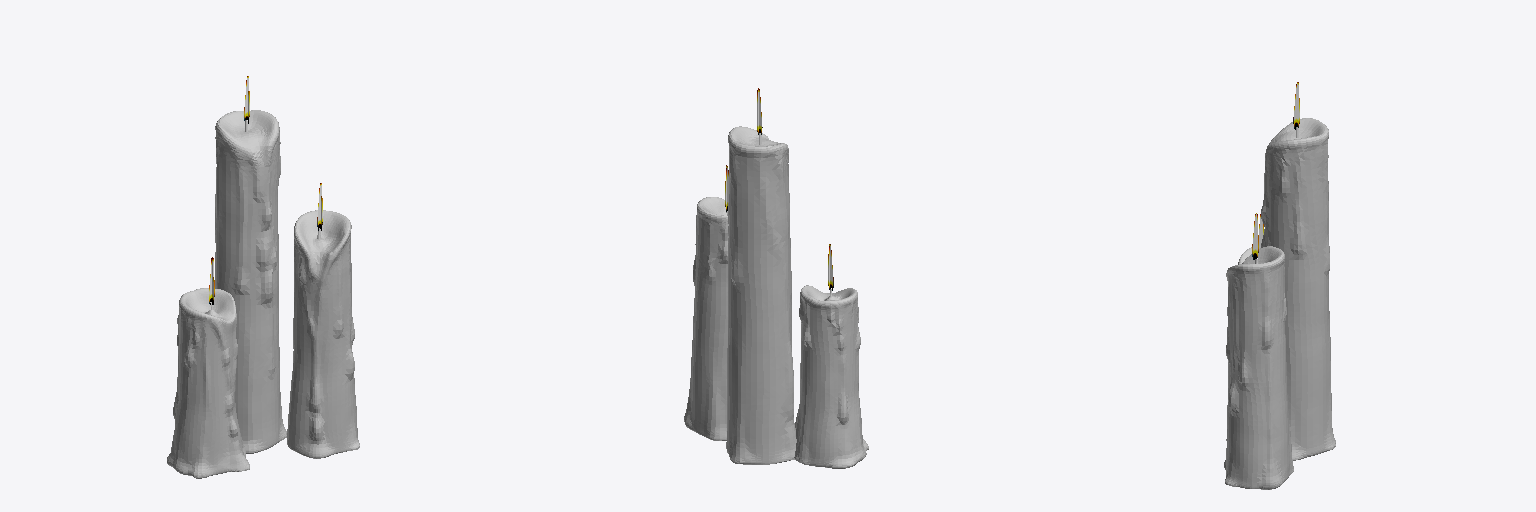
The picture shows the model from 3 angles: view 1: azimuth 30°, elevation 25°; view 2: azimuth 150°, elevation 25°; view 3: azimuth 270°, elevation 25°; orthographic projection.
Visible parts, largest first — view 1: CandleSet01_Stick02_geo, CandleSet01_Stick03_geo, CandleSet01_Stick01_geo; view 2: CandleSet01_Stick02_geo, CandleSet01_Stick01_geo, CandleSet01_Stick03_geo; view 3: CandleSet01_Stick02_geo, CandleSet01_Stick03_geo.
Boxes of the visible parts, box(x1,y1,x2,y2) form: CandleSet01_Stick02_geo: box(215, 110, 286, 453); CandleSet01_Stick03_geo: box(287, 210, 359, 458); CandleSet01_Stick01_geo: box(167, 288, 249, 478); CandleSet01_Stick02_geo: box(726, 126, 796, 464); CandleSet01_Stick01_geo: box(794, 285, 868, 468); CandleSet01_Stick03_geo: box(684, 197, 728, 440); CandleSet01_Stick02_geo: box(1261, 118, 1335, 460); CandleSet01_Stick03_geo: box(1224, 246, 1293, 489).
Size of the model in its own units: 533 by 1115 by 294.
3 materials, 1 textured.